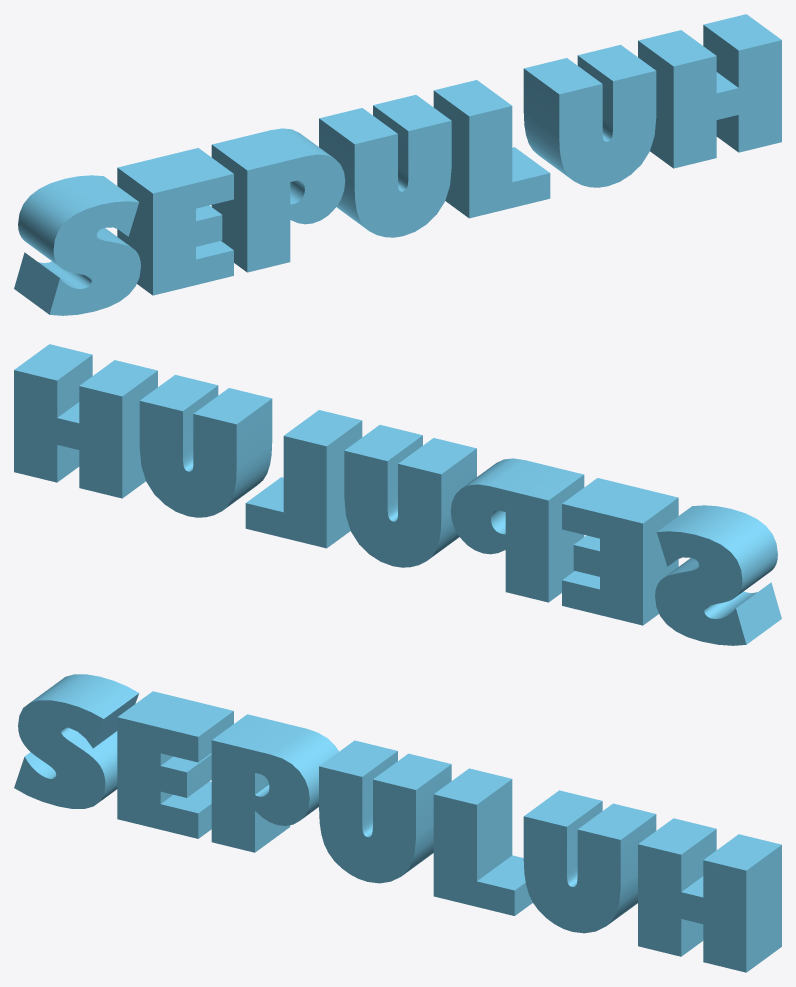
3 renders of one model, top to bottom at view 1: azimuth 30°, elevation 25°; view 2: azimuth 150°, elevation 25°; view 3: azimuth 330°, elevation 25°, orthographic.
Parts seen in each view (by area): view 1: node_id184; view 2: node_id184; view 3: node_id184.
Boxes of the visible parts, box(x1,y1,x2,y2) form: node_id184: box(14, 14, 781, 315); node_id184: box(14, 344, 781, 645); node_id184: box(14, 674, 781, 972).
Bounding box in the file's own units: 0.1786 × 0.0245 × 0.015.
